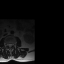CCS_normal: (9, 41, 10, 49)
LFS_normal: (12, 41, 14, 47)
LLS_normal: (10, 41, 12, 48)
RFS_normal: (5, 41, 7, 47)
RLS_normal: (7, 41, 9, 47)
